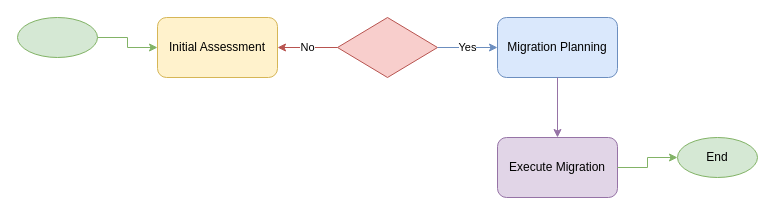
Some shapes in this 775 by 215 pixel diagram are drawn without their labels. Here are the shapes that lost their labels. From the top down, the centre of each, then its label:
At point 57,37: "Start".
At point 387,47: "Suitable for Migration?".
